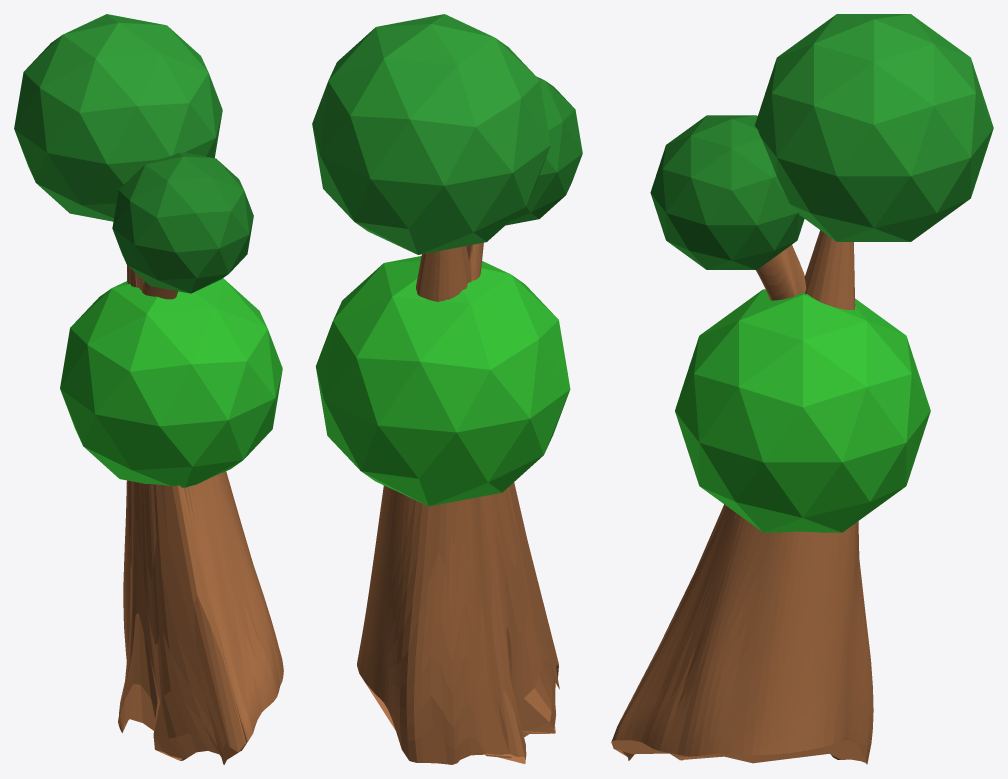
Rendered from дерево.fbx.
3 renders of one model, left to right at view 1: azimuth 30°, elevation 25°; view 2: azimuth 150°, elevation 25°; view 3: azimuth 270°, elevation 25°, orthographic. The views are drawn at different scales.
Visible parts, largest first — view 1: Конус, Икосфера.002, Икосфера, Икосфера.001; view 2: Конус, Икосфера.002, Икосфера, Икосфера.001; view 3: Конус, Икосфера.002, Икосфера, Икосфера.001.
Boxes of the visible parts, x1,y1,x2,y2 form: Конус: (118, 265, 283, 764); Икосфера.002: (60, 278, 282, 487); Икосфера: (14, 14, 222, 221); Икосфера.001: (112, 152, 253, 293); Конус: (357, 242, 559, 764); Икосфера.002: (315, 256, 570, 506); Икосфера: (312, 14, 550, 254); Икосфера.001: (505, 76, 582, 225); Конус: (611, 230, 873, 764); Икосфера.002: (675, 289, 930, 532); Икосфера: (755, 14, 993, 241); Икосфера.001: (650, 115, 804, 269).
Size of the model in its own units: 322 by 1014 by 467.
